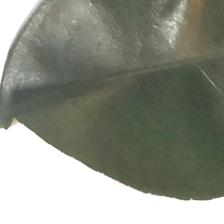healthy: (26, 9, 222, 153)
